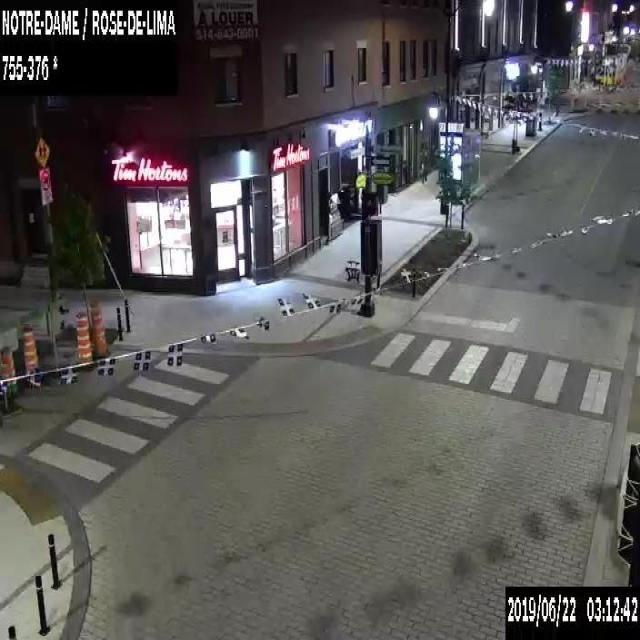construction: (88, 300, 109, 359), (0, 348, 19, 411), (74, 310, 91, 362), (21, 325, 39, 372), (596, 88, 601, 113), (611, 87, 616, 112), (570, 89, 574, 108), (625, 86, 628, 110), (636, 90, 639, 114), (582, 88, 585, 108)
pedestrian: (419, 147, 428, 184)
